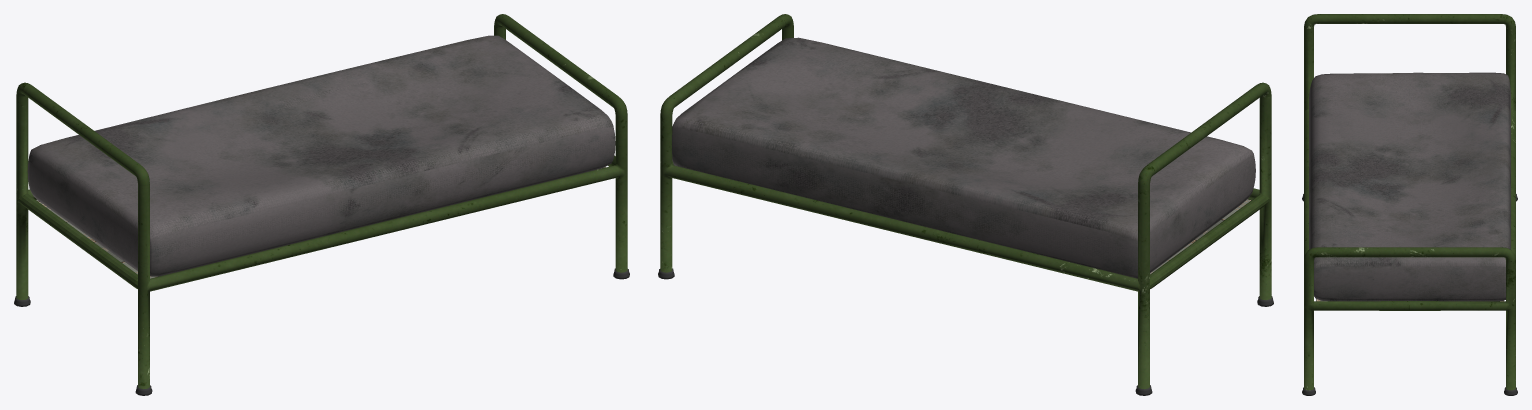
The picture shows the model from 3 angles, left to right: view 1: azimuth 30°, elevation 25°; view 2: azimuth 150°, elevation 25°; view 3: azimuth 270°, elevation 25°; orthographic projection. The views are drawn at different scales.
Parts seen in each view (by area): view 1: Matress, Cage; view 2: Matress, Cage; view 3: Matress, Cage.
Part boxes in pixels (x1,y1,x2,y2): Matress: (27,35,615,276); Cage: (14,14,629,395); Matress: (672,37,1255,278); Cage: (658,14,1273,395); Matress: (1309,72,1510,301); Cage: (1302,14,1517,395).
Size of the model in its own units: 1.85 by 0.8038 by 0.8486.
Materials: 4 (3 with a texture image).
